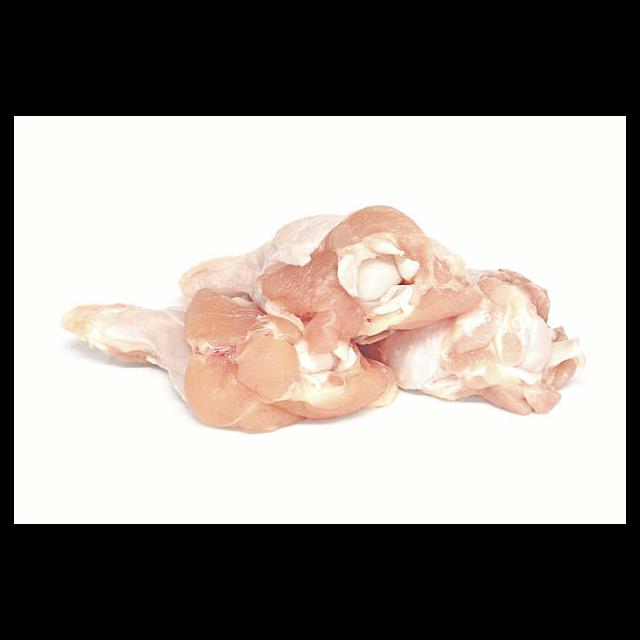chicken: (59, 288, 396, 430), (175, 205, 479, 352), (355, 264, 585, 419)
